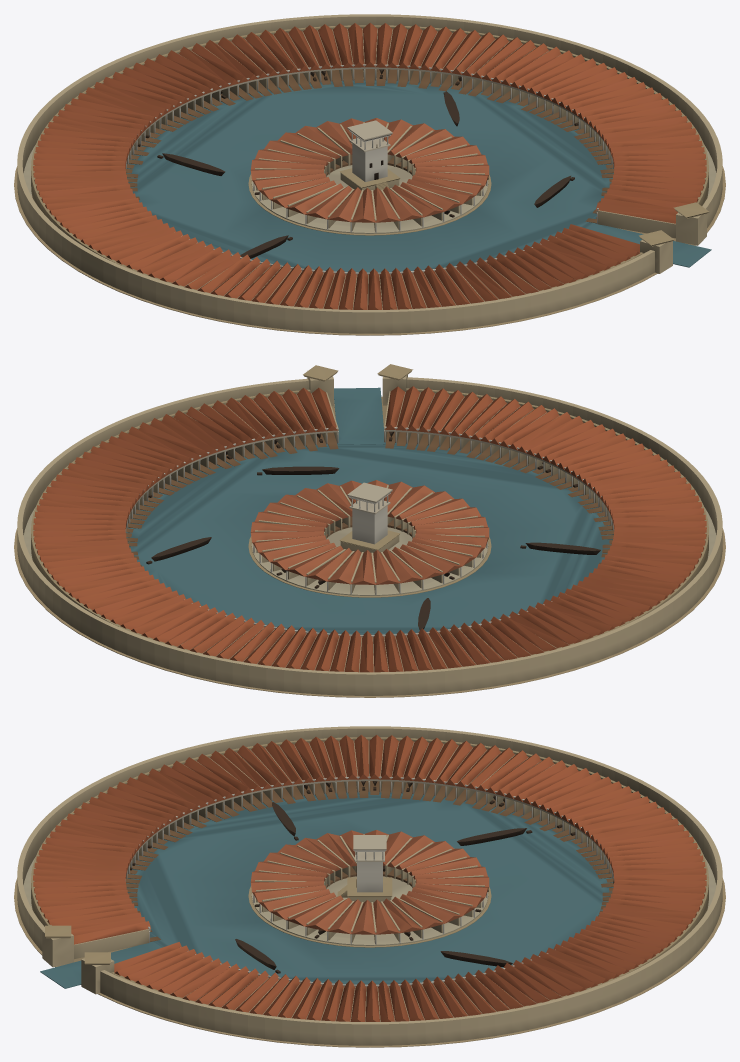
The model's file is cothon.glb.
3 views of the same model, one above another, from view 1: azimuth 30°, elevation 25°; view 2: azimuth 150°, elevation 25°; view 3: azimuth 270°, elevation 25° (orthographic).
Parts seen in each view (by area): view 1: p2_roofs, p0_basin, p1_sheds; view 2: p2_roofs, p0_basin, p1_sheds; view 3: p2_roofs, p0_basin, p1_sheds.
Part boxes in pixels (bbox=[...]): p2_roofs: bbox=[33, 23, 706, 309]; p0_basin: bbox=[14, 14, 725, 335]; p1_sheds: bbox=[125, 28, 675, 309]; p2_roofs: bbox=[33, 386, 706, 672]; p0_basin: bbox=[14, 364, 725, 697]; p1_sheds: bbox=[125, 391, 614, 672]; p2_roofs: bbox=[33, 735, 706, 1021]; p0_basin: bbox=[14, 726, 725, 1047]; p1_sheds: bbox=[74, 741, 614, 1021].
Size of the model in its own units: 331 by 28.4 by 331.
